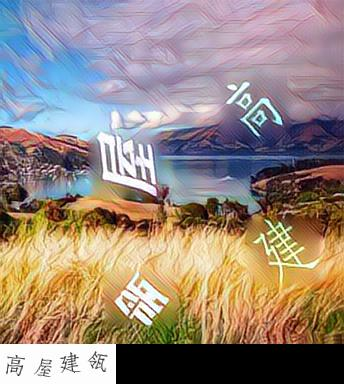character: (246, 215, 320, 291), (92, 129, 165, 199), (112, 268, 179, 328), (223, 80, 286, 141)
